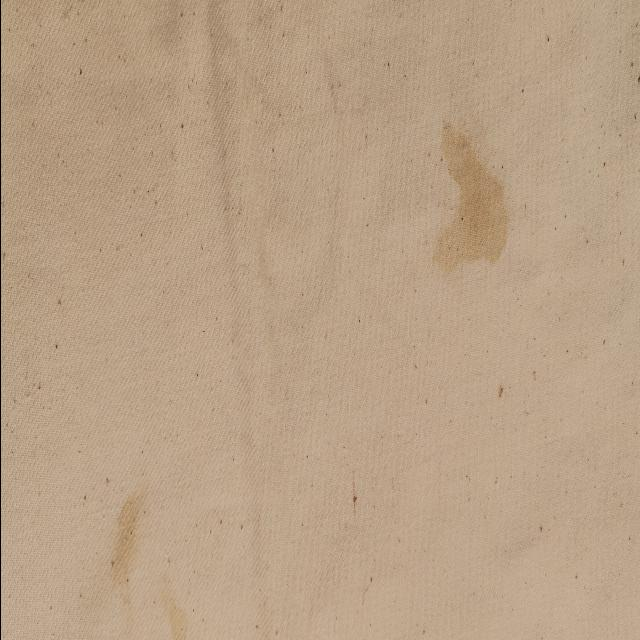taaaches: (424, 85, 521, 301), (106, 457, 167, 605)
